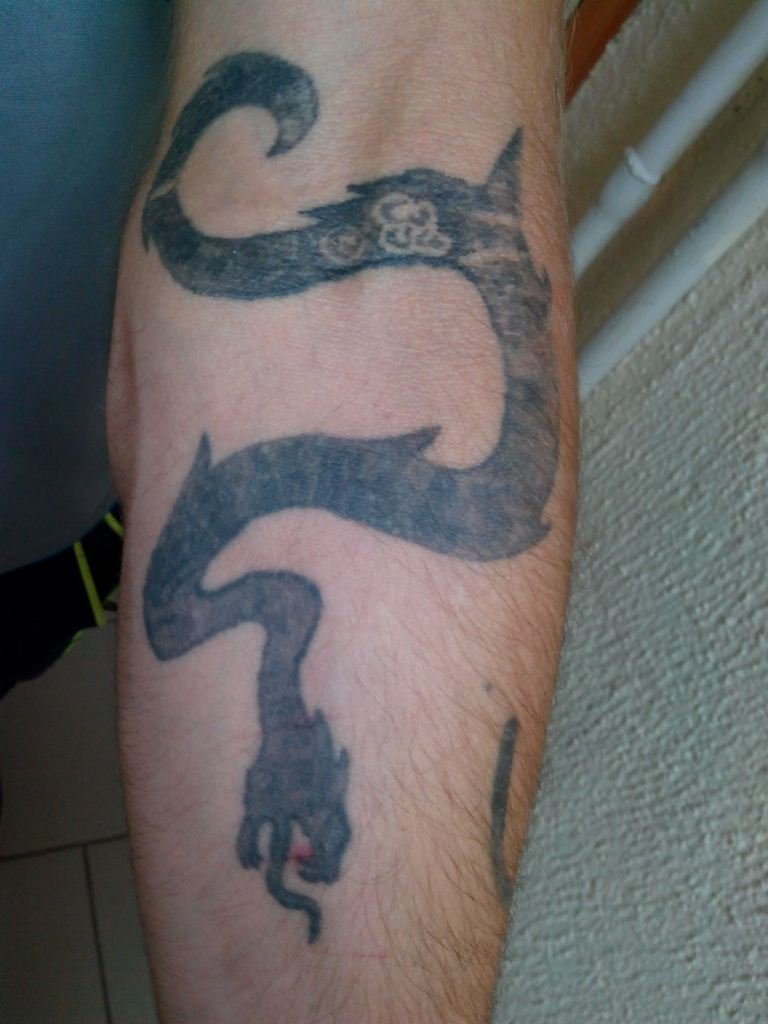tatu7_zmeya: (116, 46, 574, 962)
